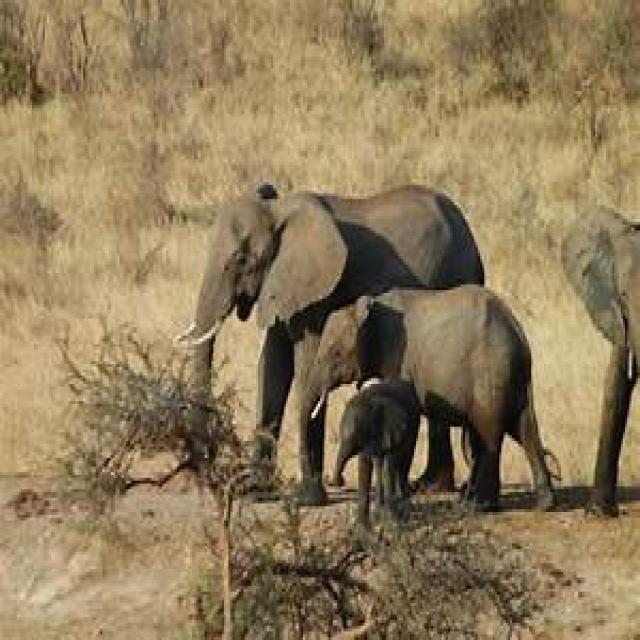elephant: (188, 185, 484, 501), (303, 287, 555, 512), (563, 210, 640, 518)
